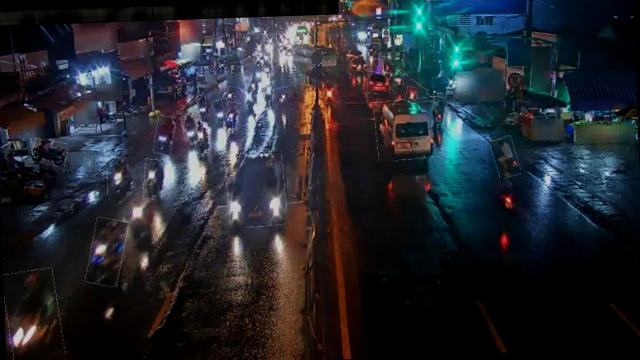Bike: (3, 268, 63, 360), (86, 218, 127, 288), (492, 136, 519, 178), (106, 158, 130, 200), (32, 138, 68, 166), (143, 158, 165, 200), (154, 116, 176, 155), (182, 114, 202, 144), (193, 122, 210, 154), (223, 101, 240, 131), (431, 96, 446, 126), (243, 86, 255, 112), (213, 100, 226, 123), (404, 87, 418, 103), (196, 96, 207, 114), (264, 82, 274, 101), (394, 69, 405, 85), (224, 87, 234, 100)
Bus: (374, 98, 439, 160)
Car: (225, 152, 288, 228), (363, 72, 390, 94)
